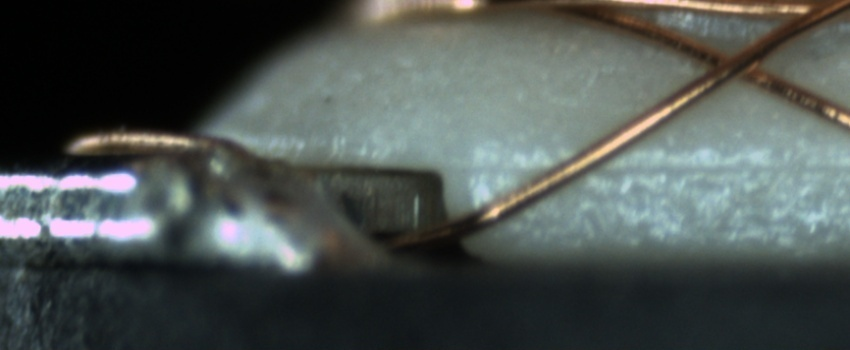CL: (689, 34, 783, 93)
DL: (469, 137, 849, 197)
TE: (44, 122, 245, 171)
